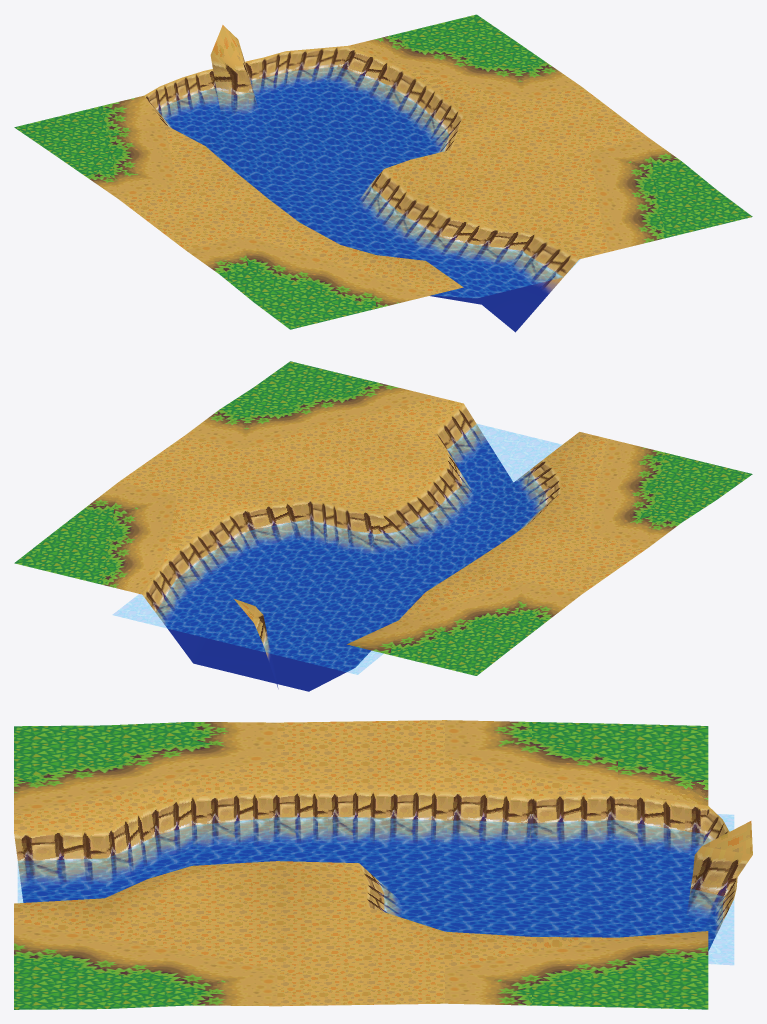
File: c_grd_r1_f_2.001.glb
The picture shows the model from 3 angles, top to bottom: view 1: azimuth 30°, elevation 25°; view 2: azimuth 150°, elevation 25°; view 3: azimuth 270°, elevation 25°; orthographic projection. The views are drawn at different scales.
Parts seen in each view (by area): view 1: c_grd_r1_f_2.001; view 2: c_grd_r1_f_2.001; view 3: c_grd_r1_f_2.001.
Boxes of the visible parts, x1,y1,x2,y2 form: c_grd_r1_f_2.001: (14,14,752,332); c_grd_r1_f_2.001: (14,361,752,691); c_grd_r1_f_2.001: (14,720,752,1009).
Size of the model in its own units: 32 by 6.92 by 35.24.
Materials: 5 (5 with a texture image).
